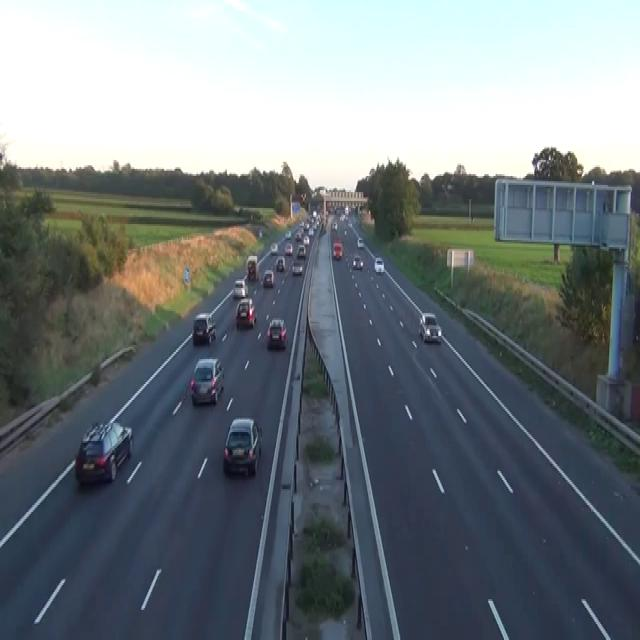Car: (75, 419, 133, 484), (223, 416, 262, 476), (189, 358, 224, 406), (192, 311, 216, 345), (418, 311, 441, 343), (235, 297, 256, 329), (266, 318, 287, 348), (233, 277, 247, 297), (262, 268, 274, 286), (374, 256, 384, 274), (332, 242, 342, 260), (352, 254, 363, 268), (291, 260, 302, 274), (296, 244, 306, 258), (276, 256, 285, 270), (284, 242, 293, 254), (270, 242, 278, 254), (356, 237, 364, 247), (295, 229, 302, 240), (300, 192, 306, 204), (331, 220, 337, 230), (303, 235, 309, 245), (284, 230, 291, 238), (321, 222, 326, 233), (328, 204, 334, 213), (344, 205, 349, 215), (308, 228, 314, 236), (339, 213, 345, 220), (347, 220, 352, 228), (312, 210, 317, 218), (258, 228, 262, 236), (344, 228, 347, 235)
Truck: (246, 254, 257, 279)
